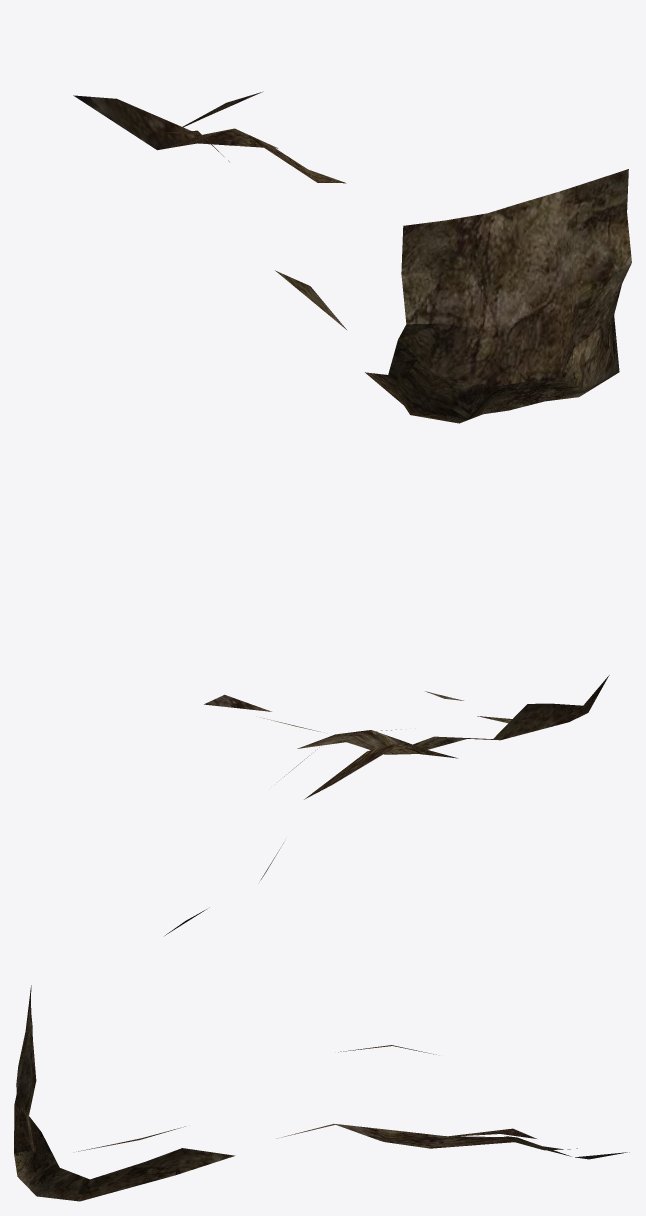
3 renders of one model, top to bottom at view 1: azimuth 30°, elevation 25°; view 2: azimuth 150°, elevation 25°; view 3: azimuth 270°, elevation 25°, orthographic. The views are drawn at different scales.
Parts seen in each view (by area): view 1: model_Object06; view 2: model_Object06; view 3: model_Object06.
Part boxes in pixels (left/top/right/bottom): model_Object06: left=73, top=91, right=631, bottom=423; model_Object06: left=165, top=675, right=609, bottom=935; model_Object06: left=14, top=985, right=629, bottom=1201.
Size of the model in its own units: 5.05 by 4.51 by 14.52.
Materials: 1 (1 with a texture image).
